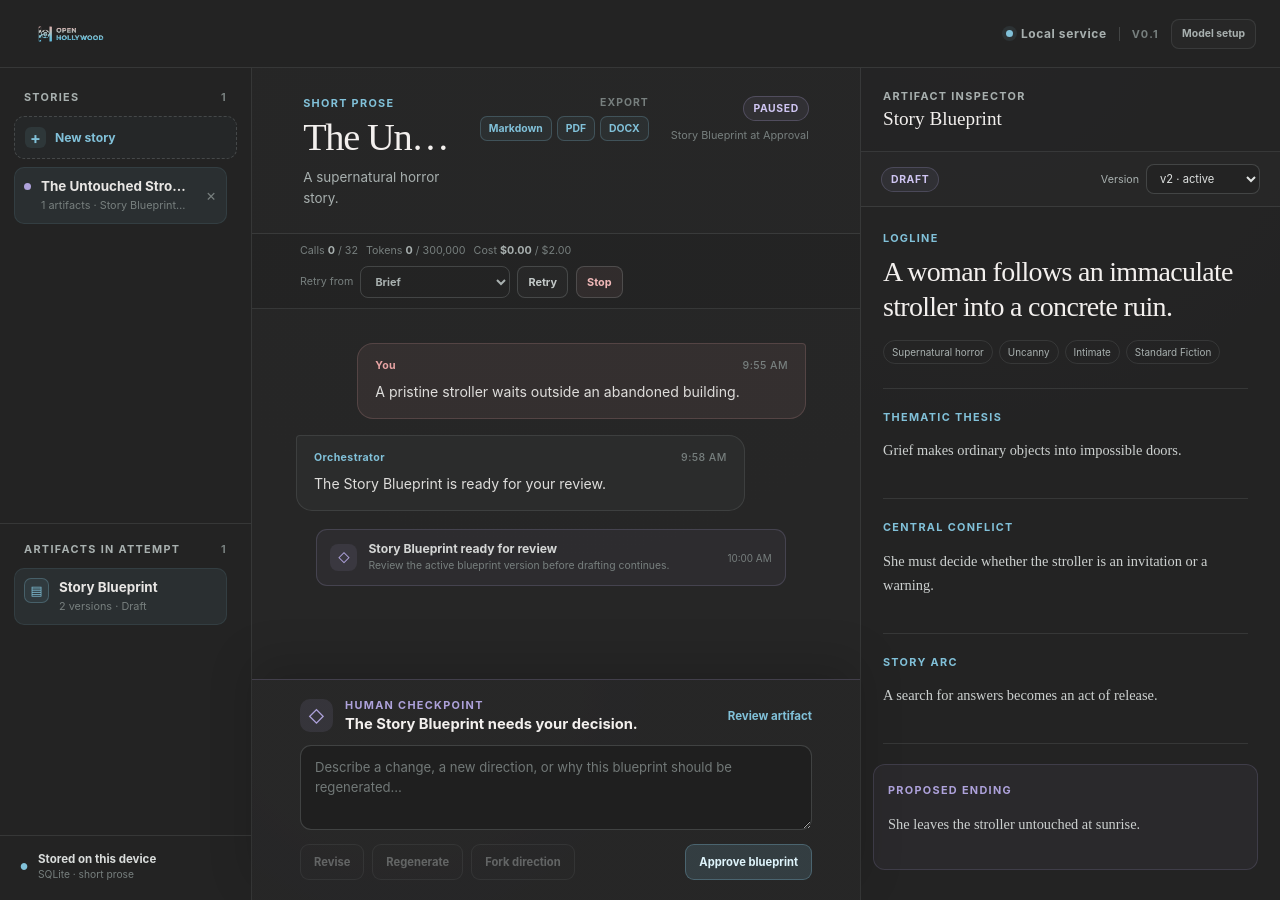
Test: App › shows the API detail when the workflow runtime is unavailable
What coordinates should you click on to do the following:
click the button "Stop"
I would click on:
 (599, 282)
Its box is [576, 266, 622, 298].
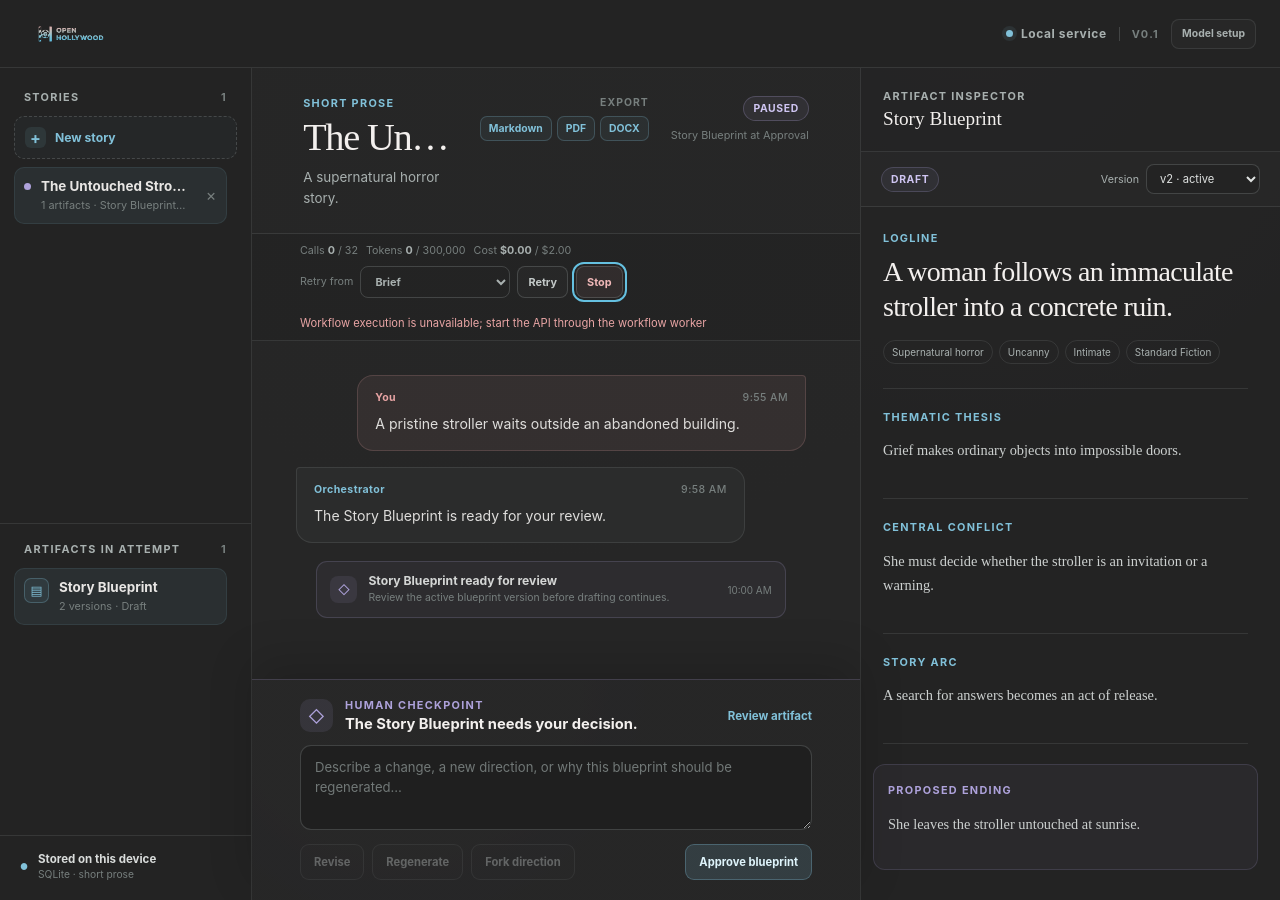
Result: the text "Workflow execution is unavailable; start the API through the workflow worker" is shown at [300, 316, 706, 330]
